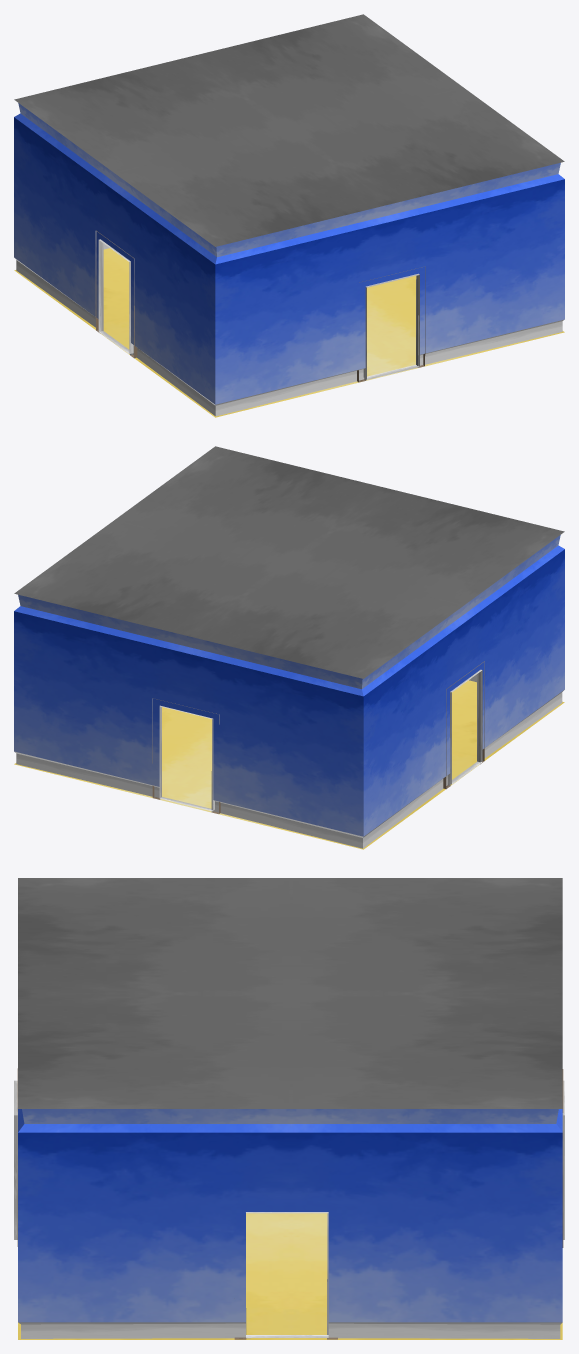
The model's file is Room_10x10_02.gltf.
The picture shows the model from 3 angles, top to bottom: view 1: azimuth 30°, elevation 25°; view 2: azimuth 150°, elevation 25°; view 3: azimuth 270°, elevation 25°; orthographic projection. The views are drawn at different scales.
Parts seen in each view (by area): view 1: Room_10x10_02; view 2: Room_10x10_02; view 3: Room_10x10_02.
Boxes of the visible parts, box(x1,y1,x2,y2) form: Room_10x10_02: box(14, 14, 564, 417); Room_10x10_02: box(14, 446, 564, 849); Room_10x10_02: box(14, 878, 564, 1339).
Size of what is drawn, in the model's own units: 10.03 by 4.63 by 10.01.
Materials: 1 (1 with a texture image).
